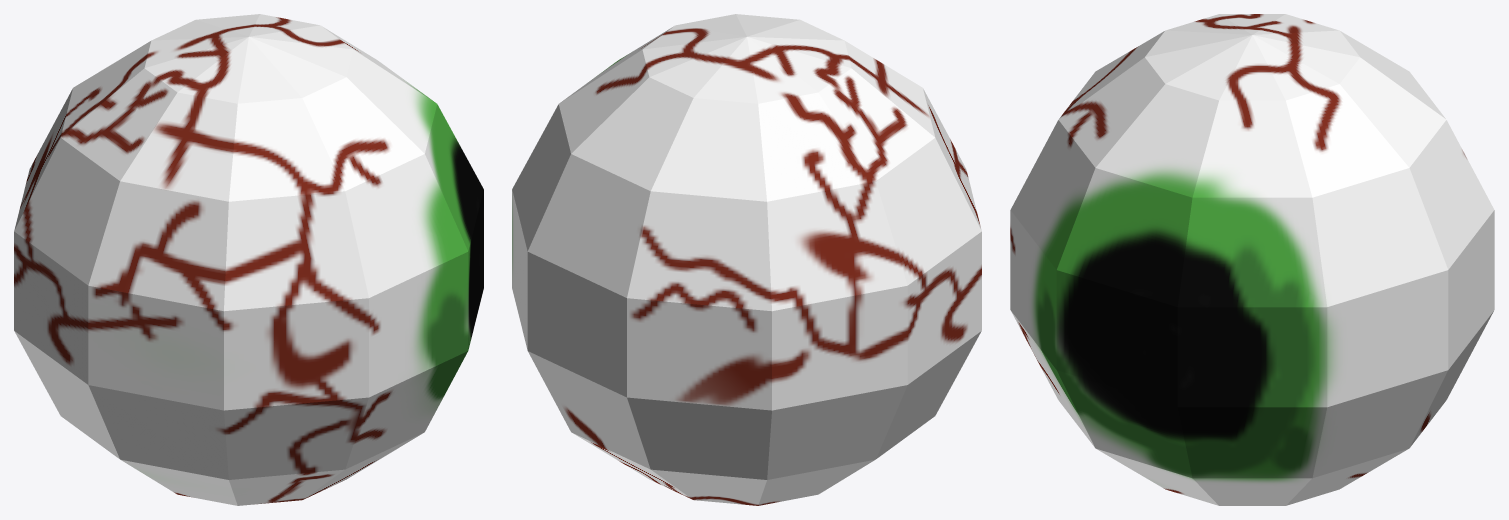
Rendered from eyeball.glb.
The picture shows the model from 3 angles, left to right: view 1: azimuth 30°, elevation 25°; view 2: azimuth 150°, elevation 25°; view 3: azimuth 270°, elevation 25°; orthographic projection.
Parts seen in each view (by area): view 1: Sphere; view 2: Sphere; view 3: Sphere.
Boxes of the visible parts, x1=… form: Sphere: x1=14, y1=14, x2=483, y2=505; Sphere: x1=512, y1=14, x2=981, y2=505; Sphere: x1=1010, y1=14, x2=1494, y2=505.
Size of the model in its own units: 1.85 by 2 by 1.95.
1 material, 1 textured.
